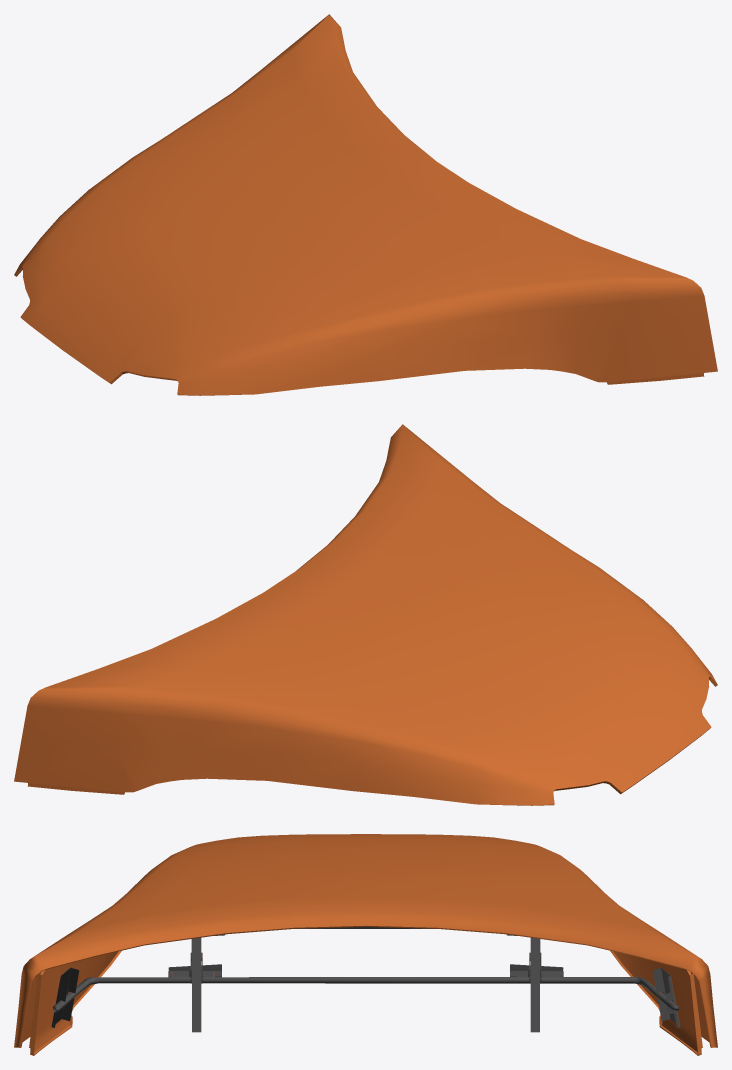
Rendered from Cabin_Long_Deflector_Mesh.glb.
3 views of the same model, one above another, from view 1: azimuth 30°, elevation 25°; view 2: azimuth 150°, elevation 25°; view 3: azimuth 270°, elevation 25° (orthographic). The views are drawn at different scales.
Visible parts, largest first — view 1: Cabin:Long_Deflector_Mesh; view 2: Cabin:Long_Deflector_Mesh; view 3: Cabin:Long_Deflector_Mesh.
Part boxes in pixels (<box>): Cabin:Long_Deflector_Mesh: <box>14,14,717,395</box>; Cabin:Long_Deflector_Mesh: <box>14,424,717,805</box>; Cabin:Long_Deflector_Mesh: <box>14,834,717,1055</box>.
Bounding box in the file's own units: 1.76 × 0.4208 × 2.49.
1 material, 1 textured.
